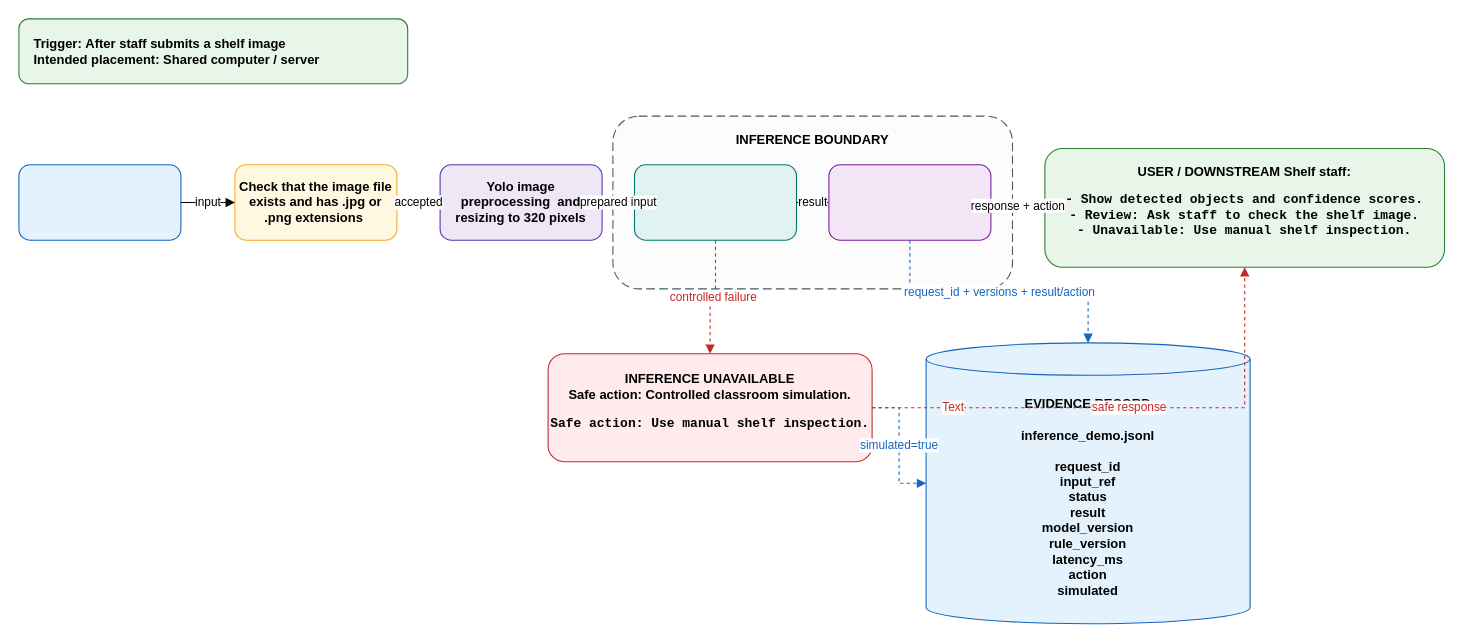
The diagram is 1463 pixels wide and 643 high, and some of its shapes have lost their labels. Here are the shapes that lost their labels. From the top down, the box of each, then its label:
(18, 164, 181, 240): Shelf image submitted by staff
(633, 164, 796, 240): YOLOV8n trained model best.pt
(828, 164, 991, 240): Review if zero detections or any confidence is below 0.50
